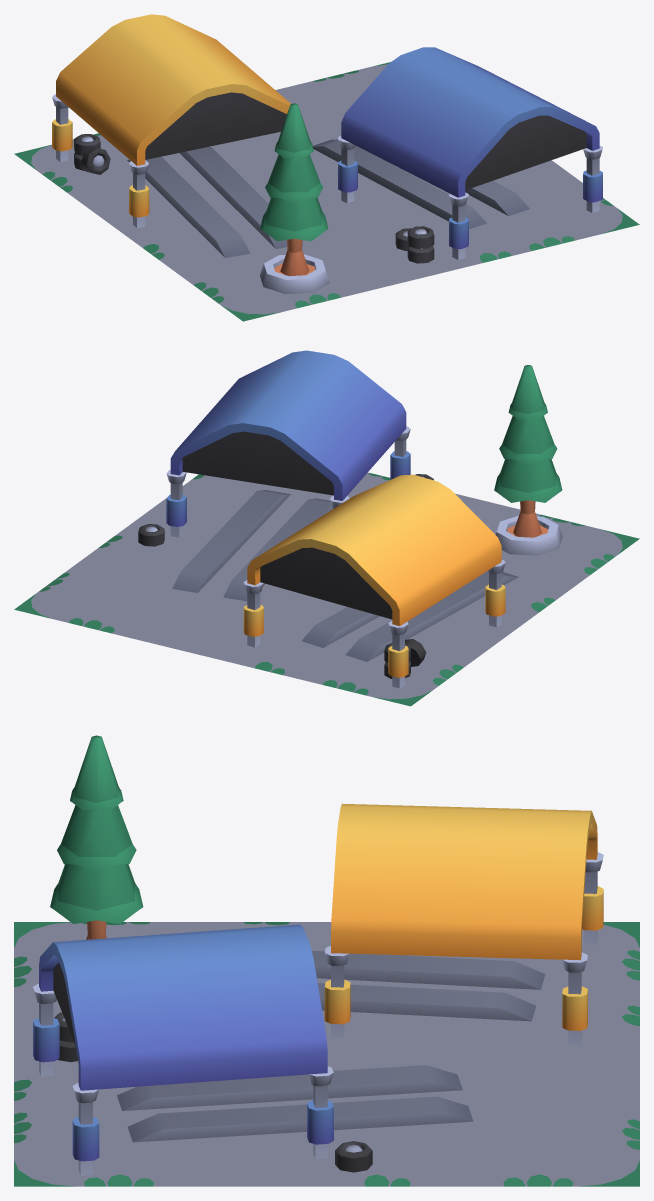
Rendered from decoration-tents.fbx.
The picture shows the model from 3 angles, top to bottom: view 1: azimuth 30°, elevation 25°; view 2: azimuth 150°, elevation 25°; view 3: azimuth 270°, elevation 25°; orthographic projection. The views are drawn at different scales.
Parts seen in each view (by area): view 1: decoration-tents; view 2: decoration-tents; view 3: decoration-tents.
Part boxes in pixels (x1=…): decoration-tents: x1=14, y1=14, x2=639, y2=321; decoration-tents: x1=14, y1=350, x2=639, y2=706; decoration-tents: x1=14, y1=735, x2=639, y2=1186.
Size of the model in its own units: 10 by 4.2 by 10.
